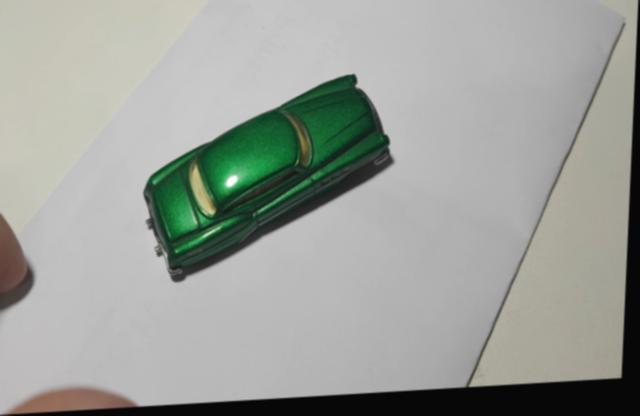06_MASERATI: (145, 80, 396, 286)
